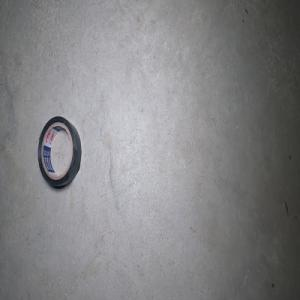Tape: (37, 116, 81, 188)
